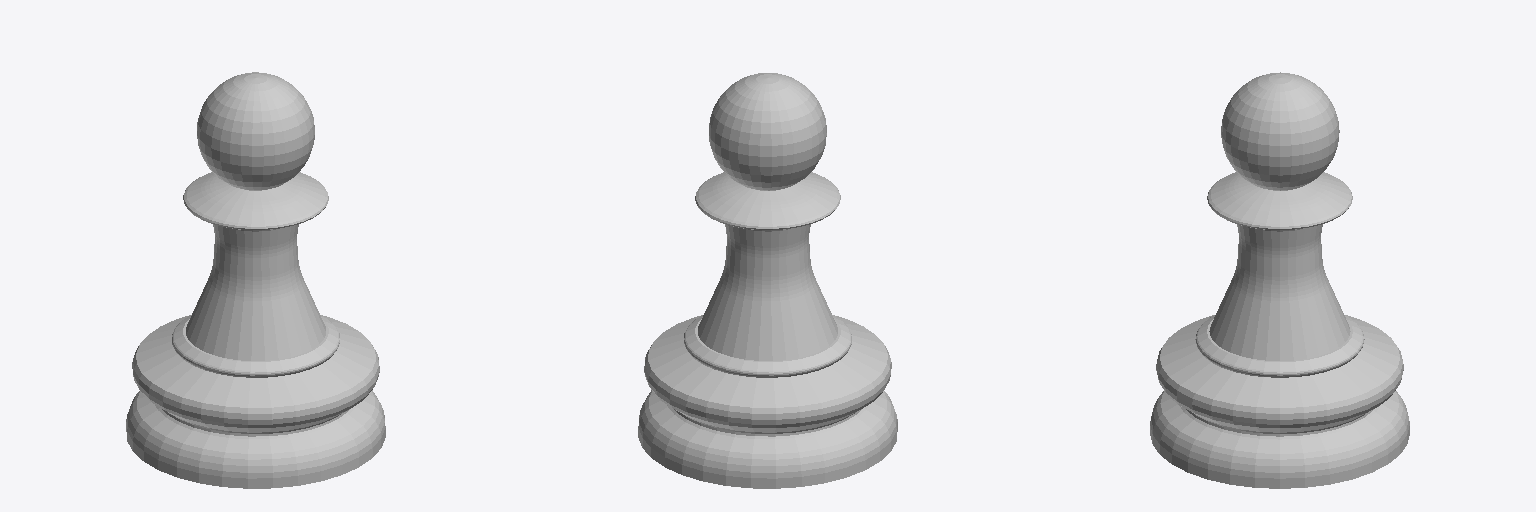
The model's file is white_pawn.obj.
3 views of the same model, side by side, from view 1: azimuth 30°, elevation 25°; view 2: azimuth 150°, elevation 25°; view 3: azimuth 270°, elevation 25° (orthographic).
Visible parts, largest first — view 1: Light_Pawn_8; view 2: Light_Pawn_8; view 3: Light_Pawn_8.
Boxes of the visible parts, <box> form: Light_Pawn_8: <box>126,72,385,488</box>; Light_Pawn_8: <box>638,73,897,488</box>; Light_Pawn_8: <box>1150,72,1409,488</box>.
Size of the model in its own units: 1.15 by 1.73 by 1.15.